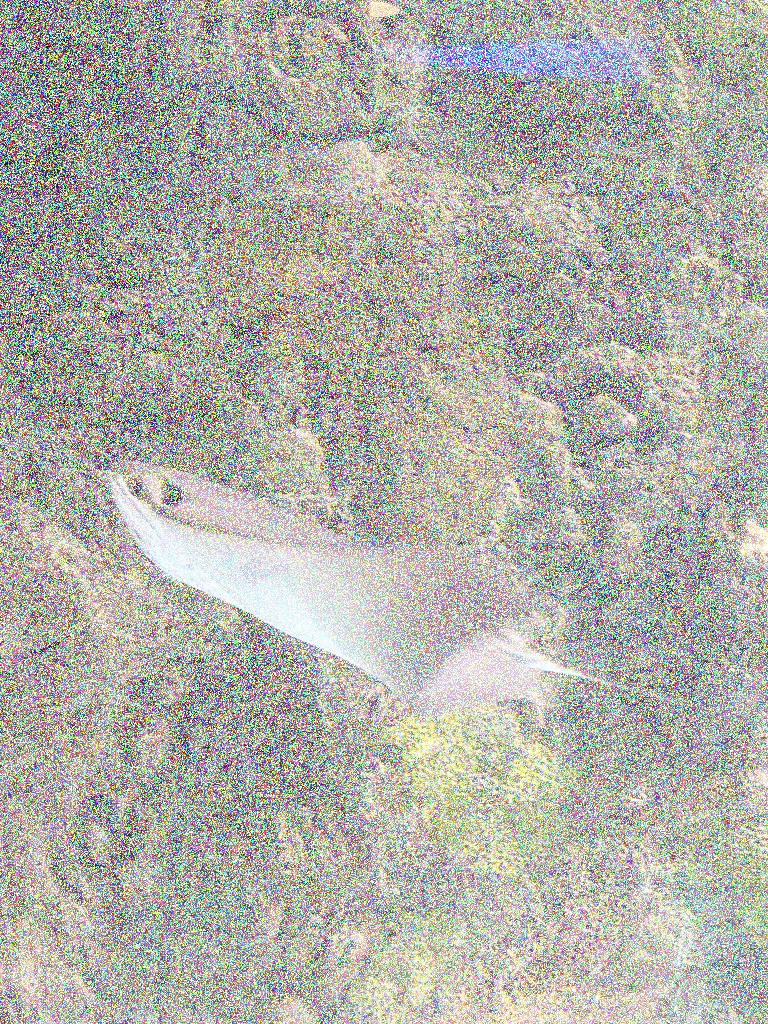stingray: (101, 455, 545, 721)
